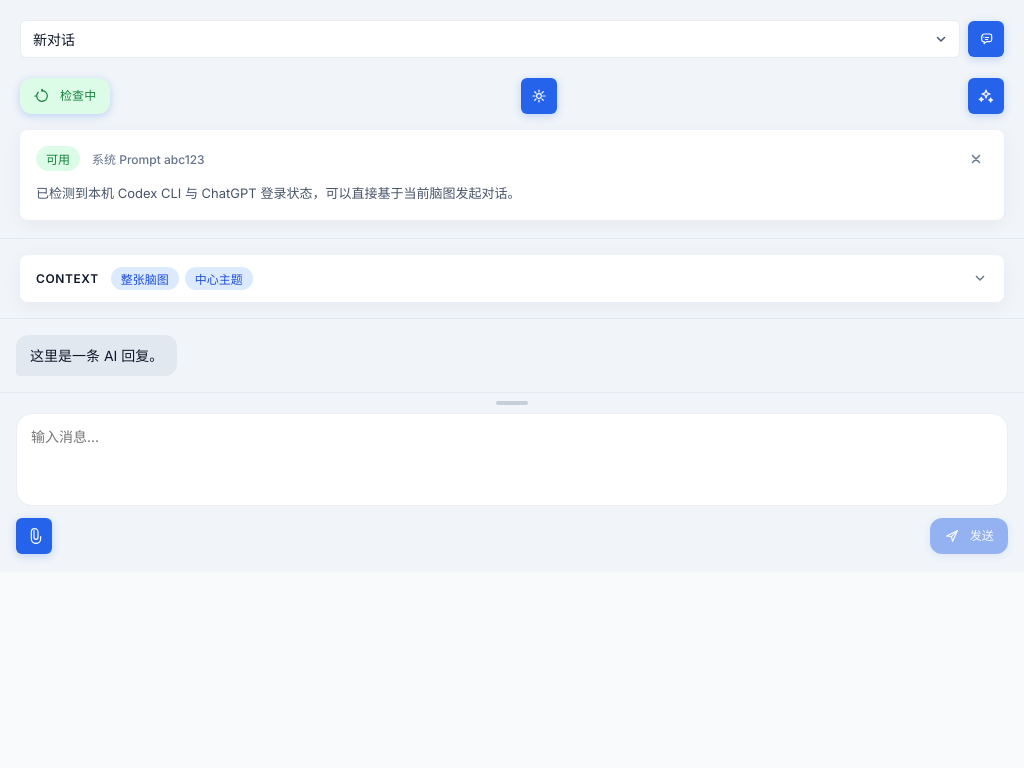
Test case: AiSidebar › allows toggling status details while checking without revalidating again
Expected: the text "已检测到本机 Codex CLI 与 ChatGPT 登录状态，可以直接基于当前脑图发起对话。" is shown, [36,185,520,201]
Step 1. Click the button "检查中" → (65, 96), box [20,78,110,114]
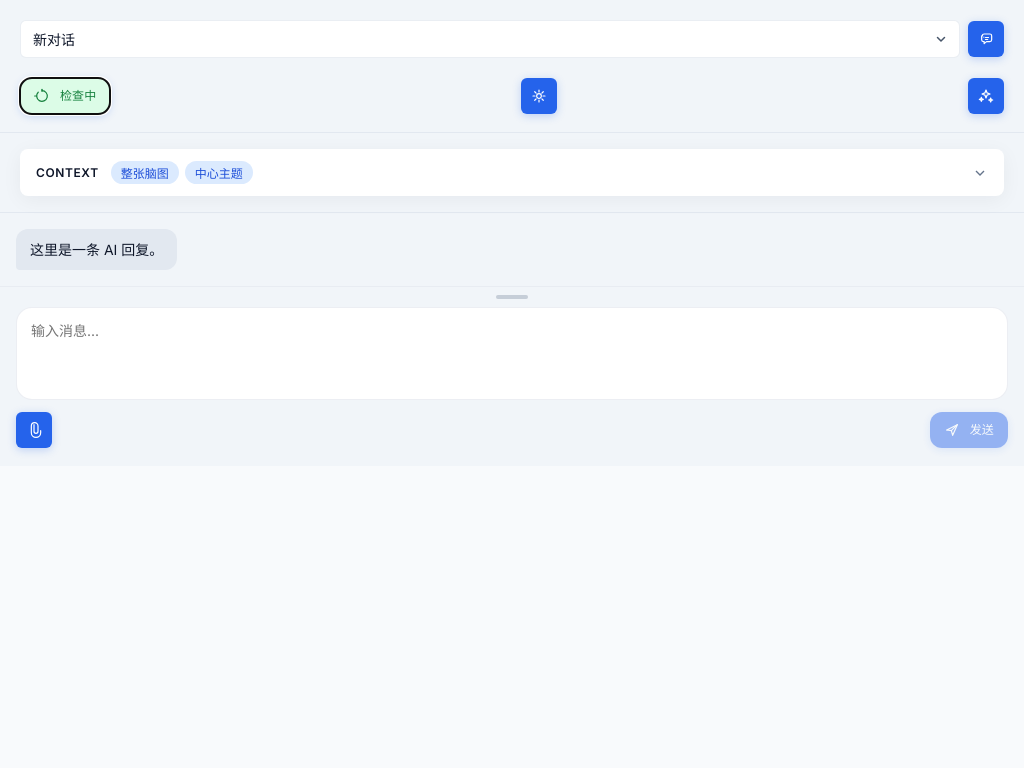
Expected: the text "已检测到本机 Codex CLI 与 ChatGPT 登录状态，可以直接基于当前脑图发起对话。" is gone
